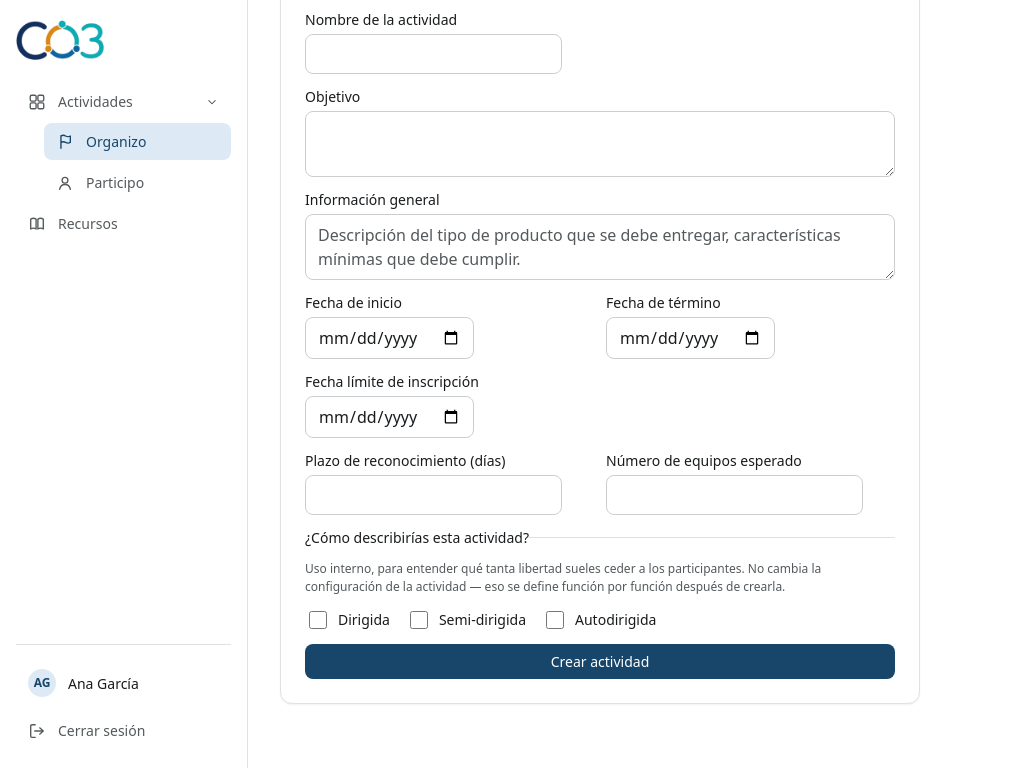
Test: PantallaCrearActividad › bloquea el envío y marca todos los campos obligatorios si están vacíos
(page scrolled)
Click the button "Crear actividad" at (600, 661), box x1=305 y1=644 x2=895 y2=679
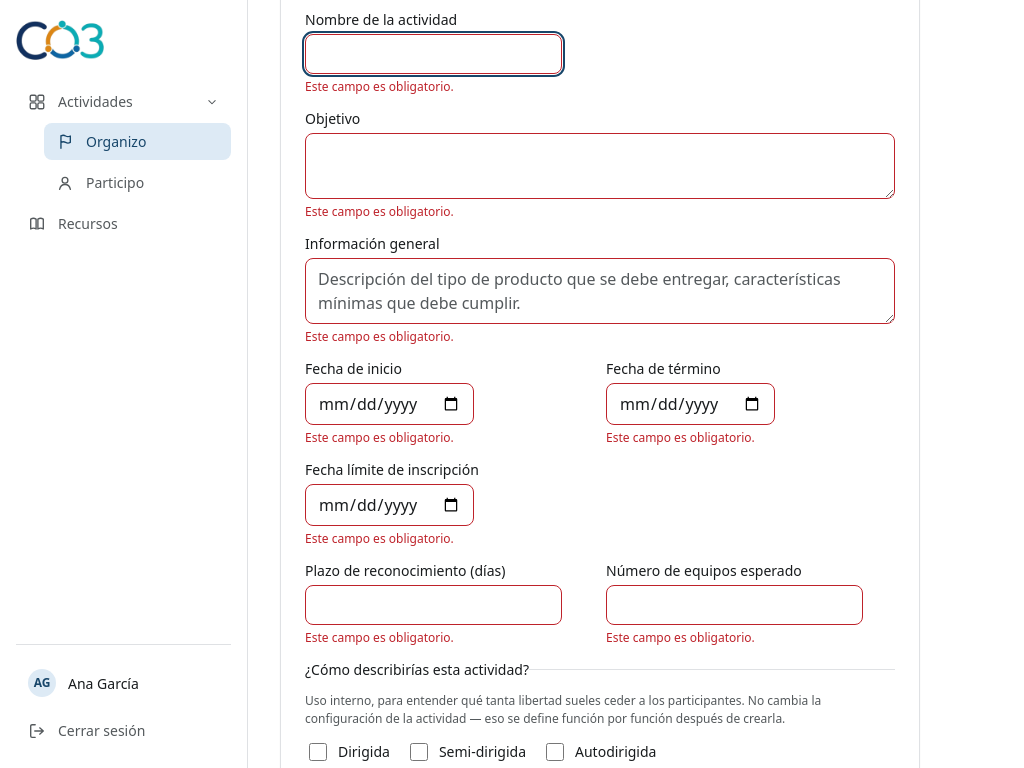
Result: the text "Este campo es obligatorio." is shown 8 times
